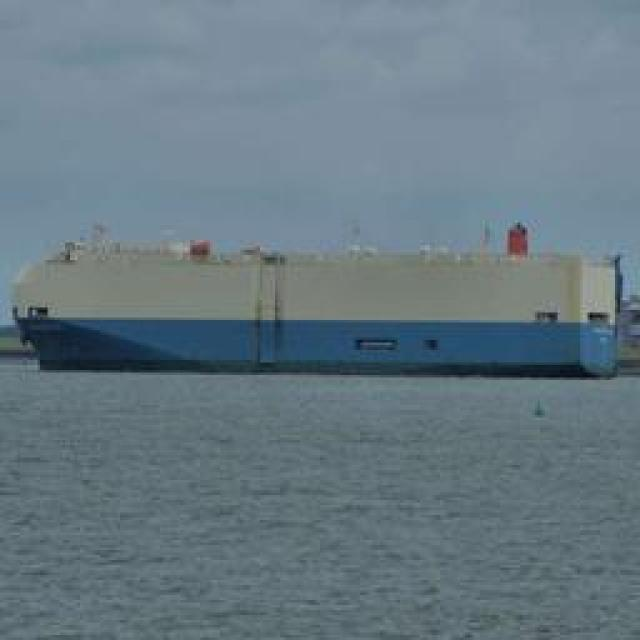CIV_Ship: (20, 235, 640, 375)
